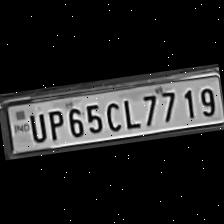1: (176, 86, 197, 121)
5: (81, 100, 104, 136)
6: (64, 104, 84, 139)
7: (155, 88, 180, 124), (137, 91, 161, 127)
9: (194, 84, 218, 119)
C: (102, 99, 124, 134)
L: (118, 95, 141, 131)
P: (42, 106, 66, 142)
U: (26, 109, 47, 144)
